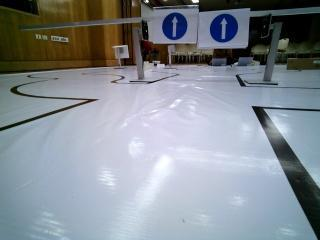straight: (151, 4, 199, 42), (199, 11, 247, 46)
